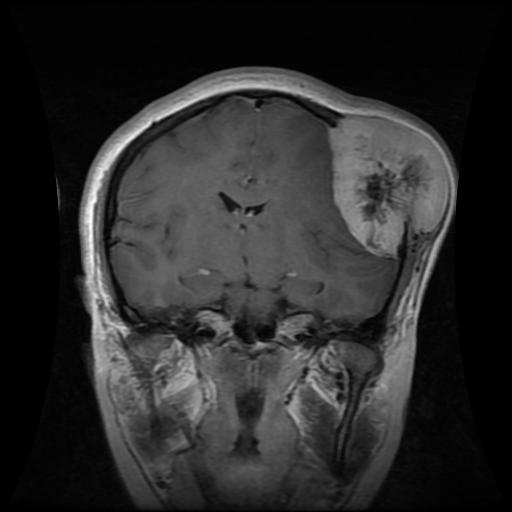Menigiomia_tumour: (329, 115, 445, 258)
